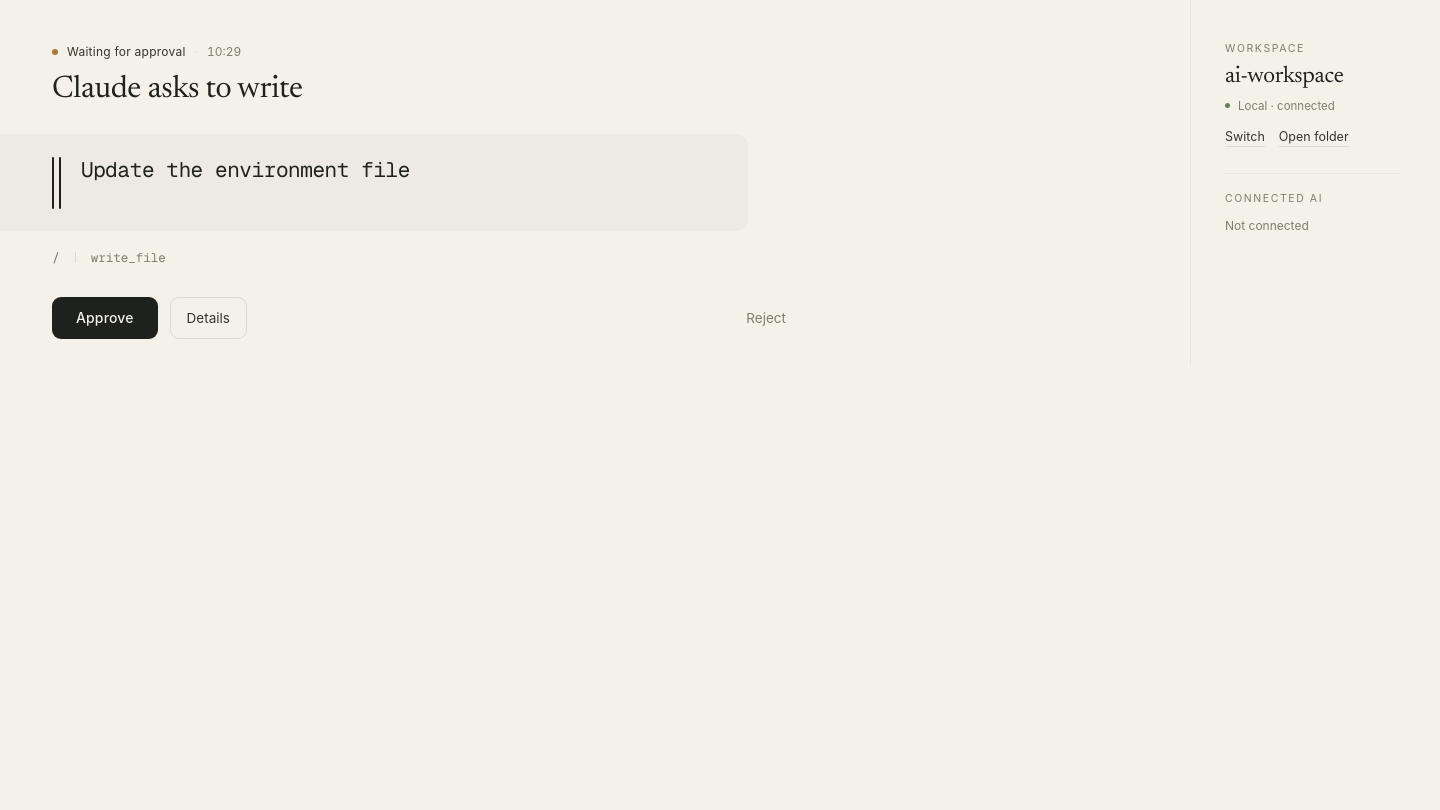
Test: what a change row has to say beyond its path › marks a write to a sensitive file as one
This screenshot has width=1440, height=810.
Click the button "Details": point(208, 318) [170, 297, 247, 339]
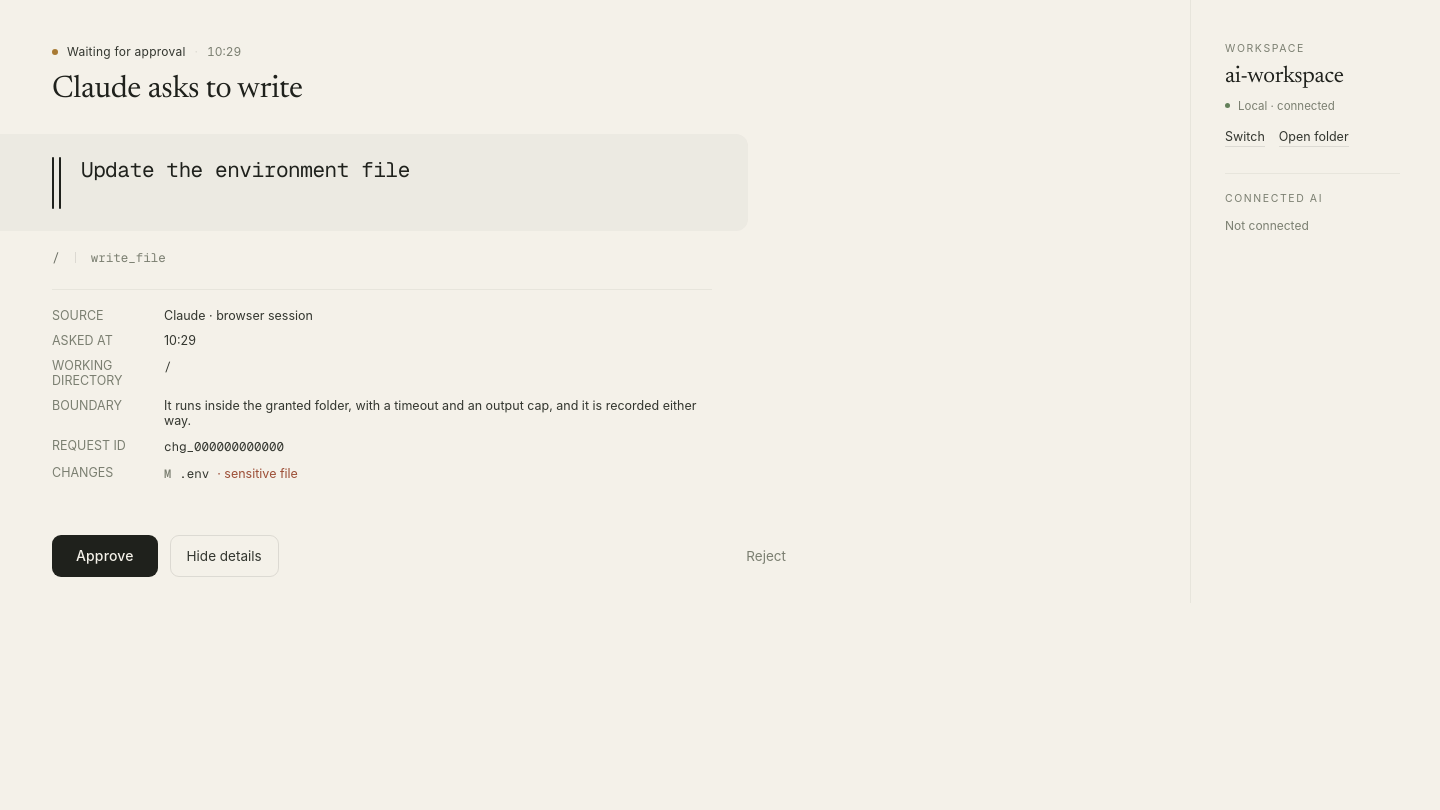
Check: the text "sensitive file" is shown, box [224, 466, 298, 481]
